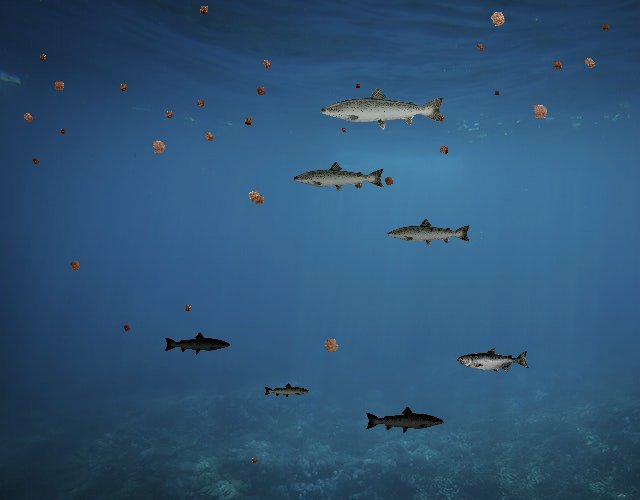Fish: (318, 85, 447, 131), (293, 161, 387, 195), (386, 217, 472, 248), (365, 406, 446, 435), (457, 348, 530, 374), (163, 332, 231, 356), (264, 382, 311, 399)
Pellet: (242, 184, 267, 209), (180, 301, 195, 316), (120, 321, 134, 335), (36, 50, 50, 64), (248, 454, 260, 466)
